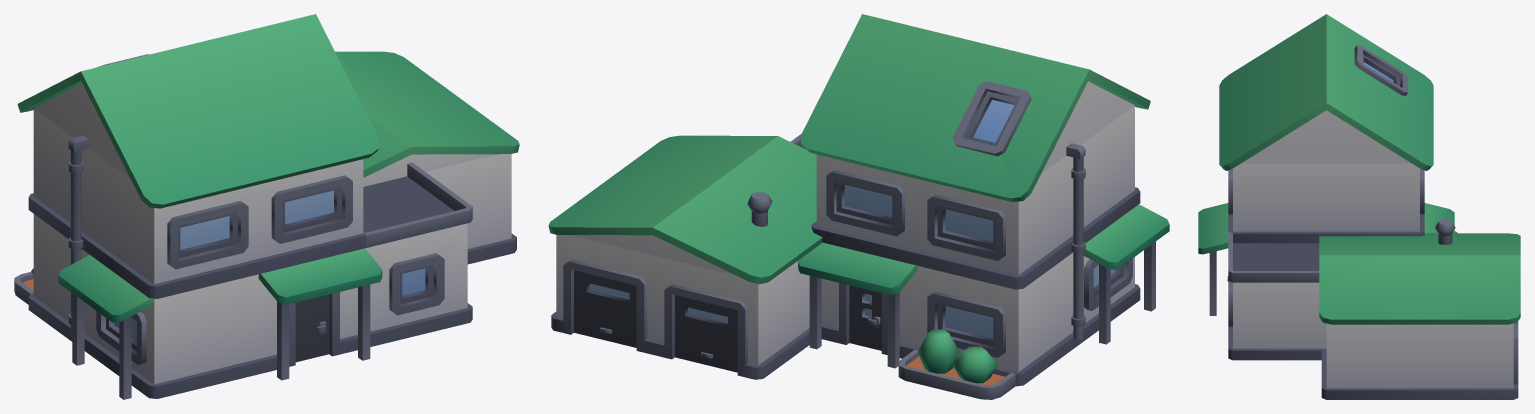
File: villaC.glb
3 views of the same model, side by side, from view 1: azimuth 30°, elevation 25°; view 2: azimuth 150°, elevation 25°; view 3: azimuth 270°, elevation 25° (orthographic). The views are drawn at different scales.
Parts seen in each view (by area): view 1: villaC; view 2: villaC; view 3: villaC.
Part boxes in pixels (bbox=[...]): villaC: bbox=[14, 14, 519, 399]; villaC: bbox=[548, 14, 1169, 399]; villaC: bbox=[1198, 14, 1520, 399].
Size of the model in its own units: 12.5 by 7.3 by 9.65.
